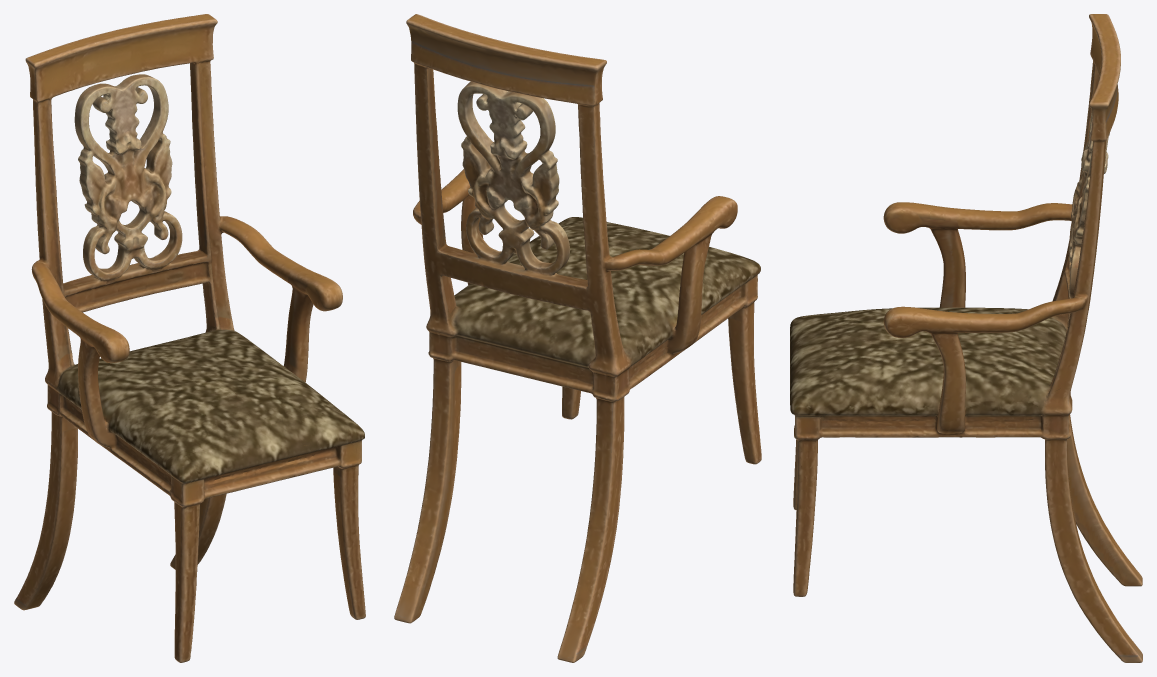
Rendered from Meshy_AI_Ornate_Wooden_Chair_0915164651_texture.obj.
3 renders of one model, left to right at view 1: azimuth 30°, elevation 25°; view 2: azimuth 150°, elevation 25°; view 3: azimuth 270°, elevation 25°, orthographic. The views are drawn at different scales.
Parts seen in each view (by area): view 1: Meshy_AI_Ornate_Wooden_Chair_0915164651_texture; view 2: Meshy_AI_Ornate_Wooden_Chair_0915164651_texture; view 3: Meshy_AI_Ornate_Wooden_Chair_0915164651_texture.
Part boxes in pixels (x1,y1,x2,y2): Meshy_AI_Ornate_Wooden_Chair_0915164651_texture: (14, 14, 365, 662); Meshy_AI_Ornate_Wooden_Chair_0915164651_texture: (394, 14, 761, 662); Meshy_AI_Ornate_Wooden_Chair_0915164651_texture: (790, 14, 1142, 662).
Bounding box in the file's own units: 0.8351 × 1.9 × 1.08.
1 material, 1 textured.
